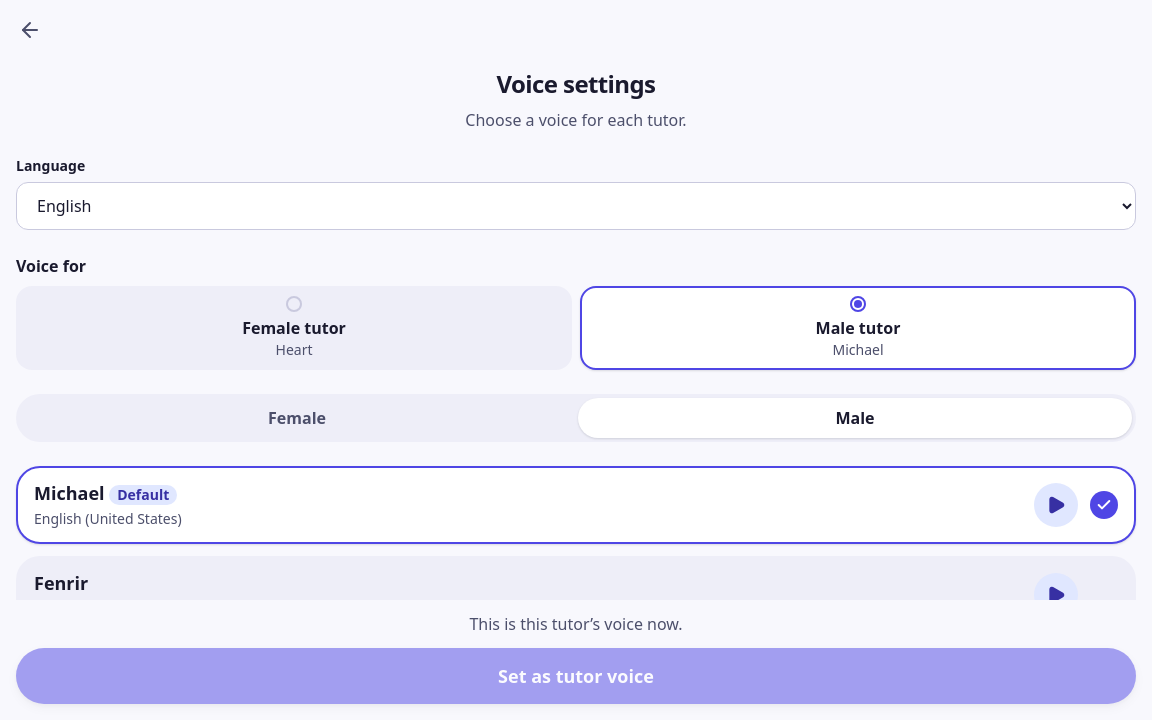
Test case: VoiceSettingsPage › lists the voices by kind, each with its accent, and knows the kind of every one
The image size is (1152, 720).
Click the radio button labelled "Female" at [297, 418], box [268,407,326,429]
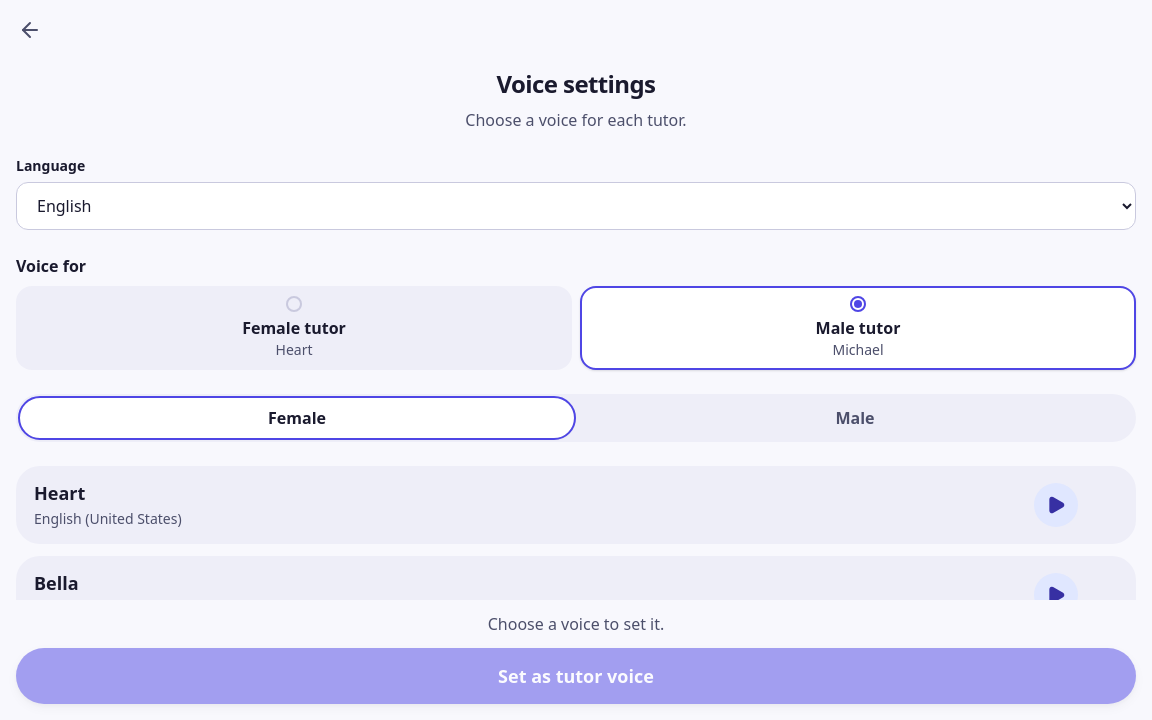
Expected: the button "Set as tutor voice" is disabled, [16,648,1136,704]
Expected: the text "Choose a voice to set it." is shown, [488,613,664,635]
